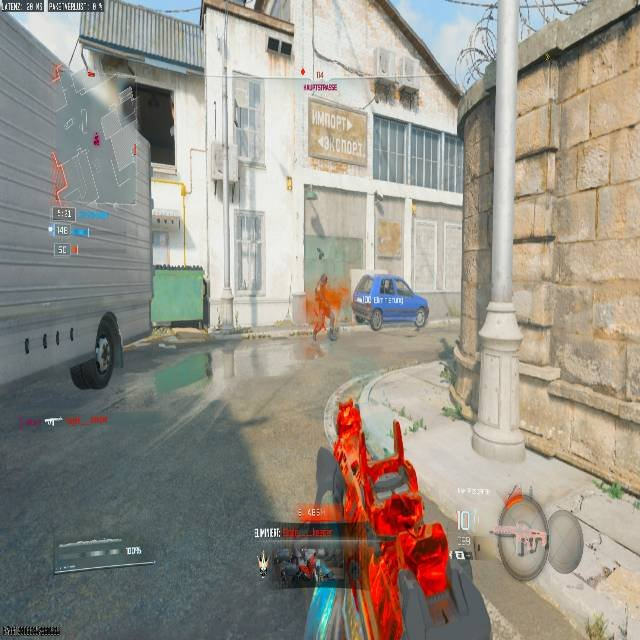player: (257, 539, 327, 587), (311, 274, 338, 340)
